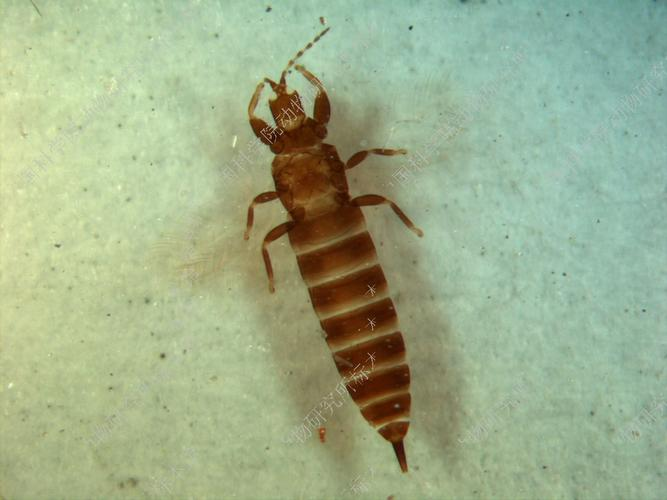Phlaeothripidae: (140, 26, 506, 491)
